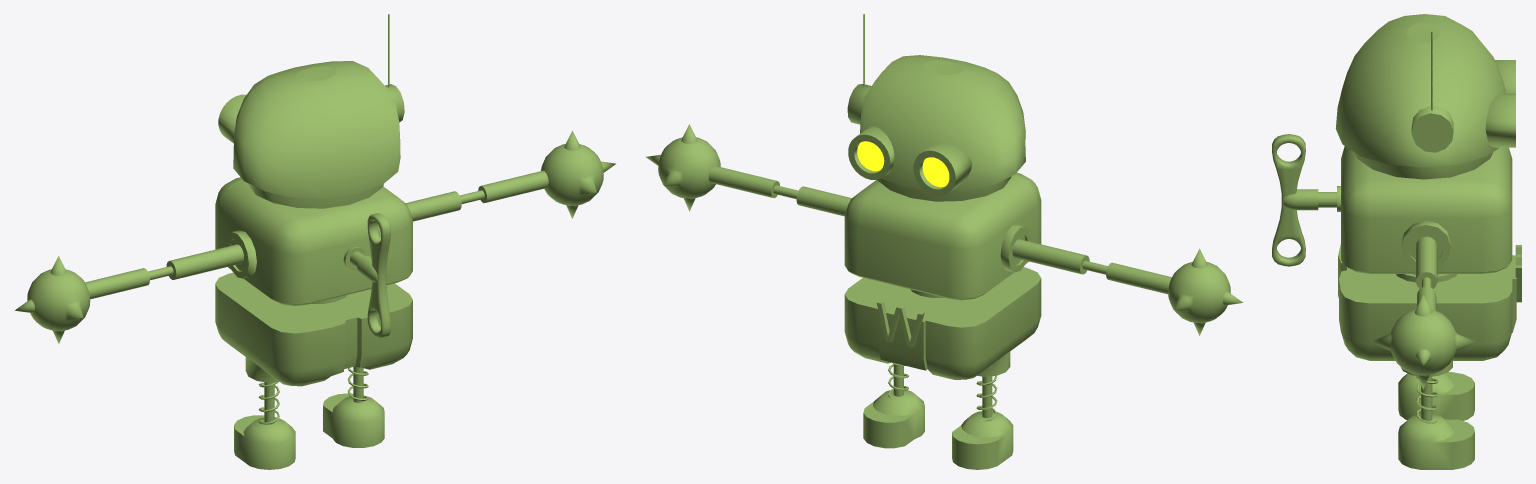
Rendered from Robo Soldado .fbx.
3 views of the same model, side by side, from view 1: azimuth 30°, elevation 25°; view 2: azimuth 150°, elevation 25°; view 3: azimuth 270°, elevation 25° (orthographic). The views are drawn at different scales.
Parts seen in each view (by area): view 1: cuerpo_luchador, Cabeza luchador, Brazos luchador, Piernas luchador, Llave luchador; view 2: cuerpo_luchador, Cabeza luchador, Brazos luchador, Piernas luchador; view 3: cuerpo_luchador, Cabeza luchador, Piernas luchador, Brazos luchador, Llave luchador.
Boxes of the visible parts, x1,y1,x2,y2 form: cuerpo_luchador: [215, 177, 412, 386]; Cabeza luchador: [218, 14, 404, 208]; Brazos luchador: [15, 130, 615, 344]; Piernas luchador: [234, 366, 384, 469]; Llave luchador: [350, 213, 390, 337]; cuerpo_luchador: [844, 172, 1041, 379]; Cabeza luchador: [847, 14, 1025, 201]; Brazos luchador: [646, 124, 1243, 335]; Piernas luchador: [863, 362, 1013, 469]; cuerpo_luchador: [1337, 146, 1521, 376]; Cabeza luchador: [1335, 14, 1515, 179]; Piernas luchador: [1398, 372, 1474, 469]; Brazos luchador: [1371, 236, 1476, 389]; Llave luchador: [1272, 134, 1336, 266].
Bounding box in the file's own units: 232 × 152 × 77.51.
